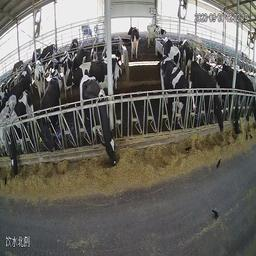cow: (76, 72, 118, 165), (160, 53, 198, 127), (189, 59, 225, 135), (66, 59, 117, 105), (36, 76, 61, 168), (8, 86, 31, 178), (215, 69, 242, 136), (177, 55, 217, 85), (236, 70, 256, 126), (0, 92, 17, 152), (59, 51, 74, 104), (7, 73, 31, 105), (104, 52, 122, 86), (150, 23, 174, 48), (71, 46, 90, 74), (34, 58, 45, 102), (40, 41, 57, 68), (129, 23, 140, 62), (181, 37, 196, 64), (20, 62, 33, 84), (11, 56, 24, 75), (70, 35, 79, 57), (31, 47, 41, 65)
